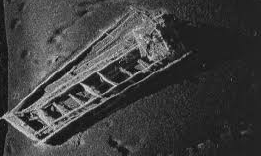ship: (2, 6, 196, 148)
